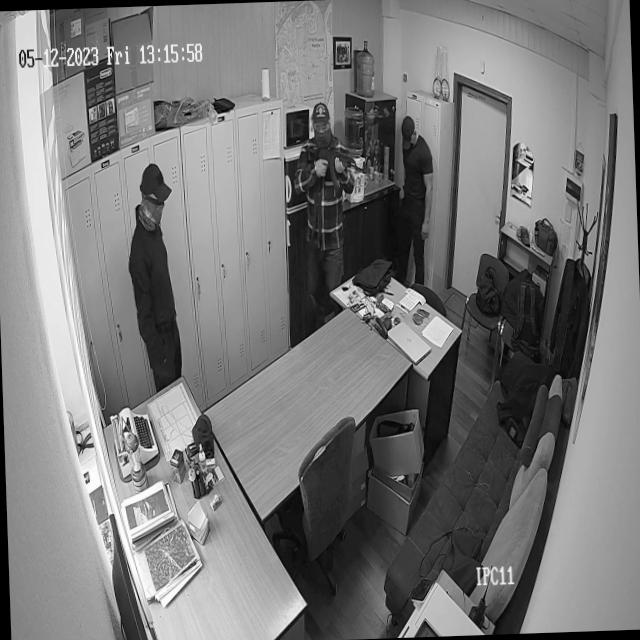gun: (308, 142, 369, 188)
person: (124, 161, 182, 380), (388, 116, 440, 272)
person with a gun: (292, 101, 374, 326)
